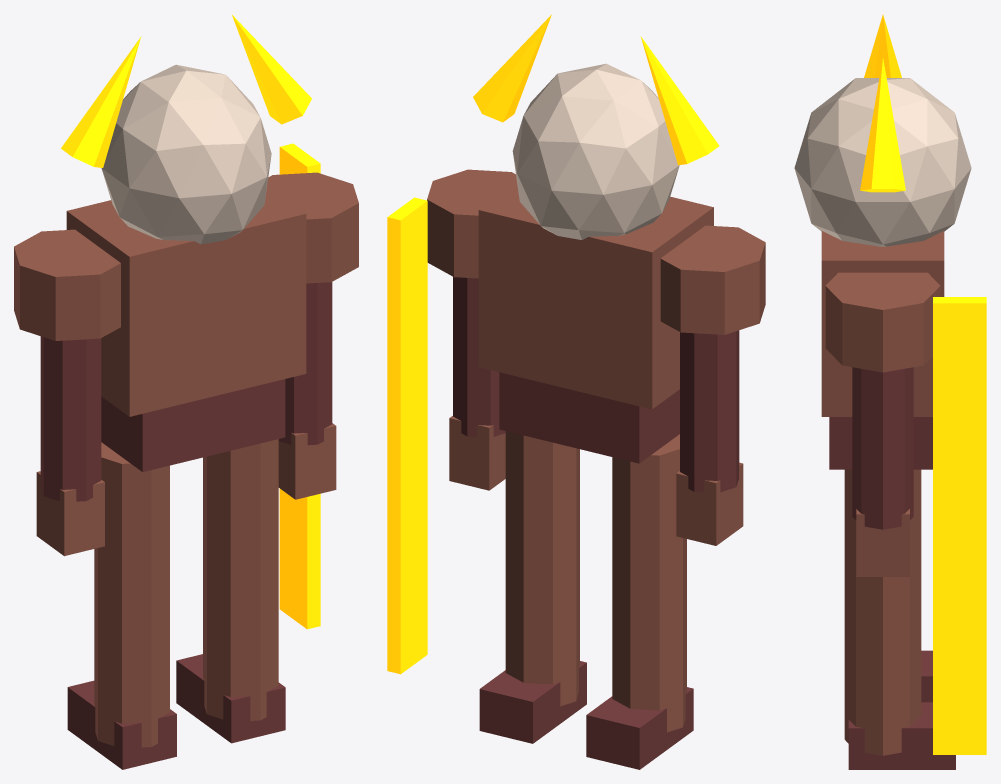
File: hero_ignis.glb
3 views of the same model, side by side, from view 1: azimuth 30°, elevation 25°; view 2: azimuth 150°, elevation 25°; view 3: azimuth 270°, elevation 25° (orthographic). The views are drawn at different scales.
Visible parts, largest first — view 1: Cube, Icosphere, Cylinder.004, Cylinder.005, Cube.001, Cylinder, Cylinder.002, Cube.006, Cylinder.001, Cylinder.003, Cube.005, Cube.004 (+4 smaller); view 2: Cube, Icosphere, Cube.006, Cylinder.004, Cylinder.005, Cube.001, Cylinder, Cylinder.002, Cylinder.001, Cylinder.003, Cube.005, Cube.004 (+4 smaller); view 3: Cube.006, Icosphere, Cylinder.005, Cylinder.001, Cylinder.003, Cube, Cube.005, Cone.001, Cube.003, Cube.001, Cone, Cube.004.
Boxes of the visible parts, bbox=[...] form: Cube: bbox=[66, 185, 306, 416]; Icosphere: bbox=[101, 64, 271, 244]; Cylinder.004: bbox=[94, 442, 169, 747]; Cylinder.005: bbox=[203, 439, 278, 720]; Cube.001: bbox=[101, 379, 285, 472]; Cylinder: bbox=[14, 229, 120, 340]; Cylinder.002: bbox=[40, 336, 101, 501]; Cube.006: bbox=[279, 143, 320, 629]; Cylinder.001: bbox=[267, 172, 358, 283]; Cylinder.003: bbox=[278, 282, 332, 445]; Cube.005: bbox=[176, 654, 285, 743]; Cube.004: bbox=[67, 680, 176, 769]; Cube: bbox=[478, 182, 713, 409]; Icosphere: bbox=[512, 63, 679, 239]; Cube.006: bbox=[387, 197, 427, 674]; Cylinder.004: bbox=[612, 434, 686, 732]; Cylinder.005: bbox=[505, 431, 579, 706]; Cube.001: bbox=[499, 372, 679, 463]; Cylinder: bbox=[660, 225, 765, 334]; Cylinder.002: bbox=[680, 330, 739, 492]; Cylinder.001: bbox=[427, 169, 516, 278]; Cylinder.003: bbox=[453, 277, 505, 437]; Cube.005: bbox=[479, 661, 586, 743]; Cube.004: bbox=[586, 687, 693, 769]; Cube.006: bbox=[933, 297, 986, 754]; Icosphere: bbox=[794, 78, 971, 246]; Cylinder.005: bbox=[844, 469, 921, 755]; Cylinder.001: bbox=[825, 272, 940, 372]; Cylinder.003: bbox=[852, 367, 913, 529]; Cube: bbox=[821, 231, 944, 416]; Cube.005: bbox=[848, 702, 955, 769]; Cone.001: bbox=[860, 58, 905, 192]; Cube.003: bbox=[856, 509, 909, 576]; Cube.001: bbox=[829, 417, 932, 469]; Cone: bbox=[864, 14, 901, 77]; Cube.004: bbox=[921, 650, 932, 702].
Size of the model in its own units: 0.98 by 2 by 0.501.
